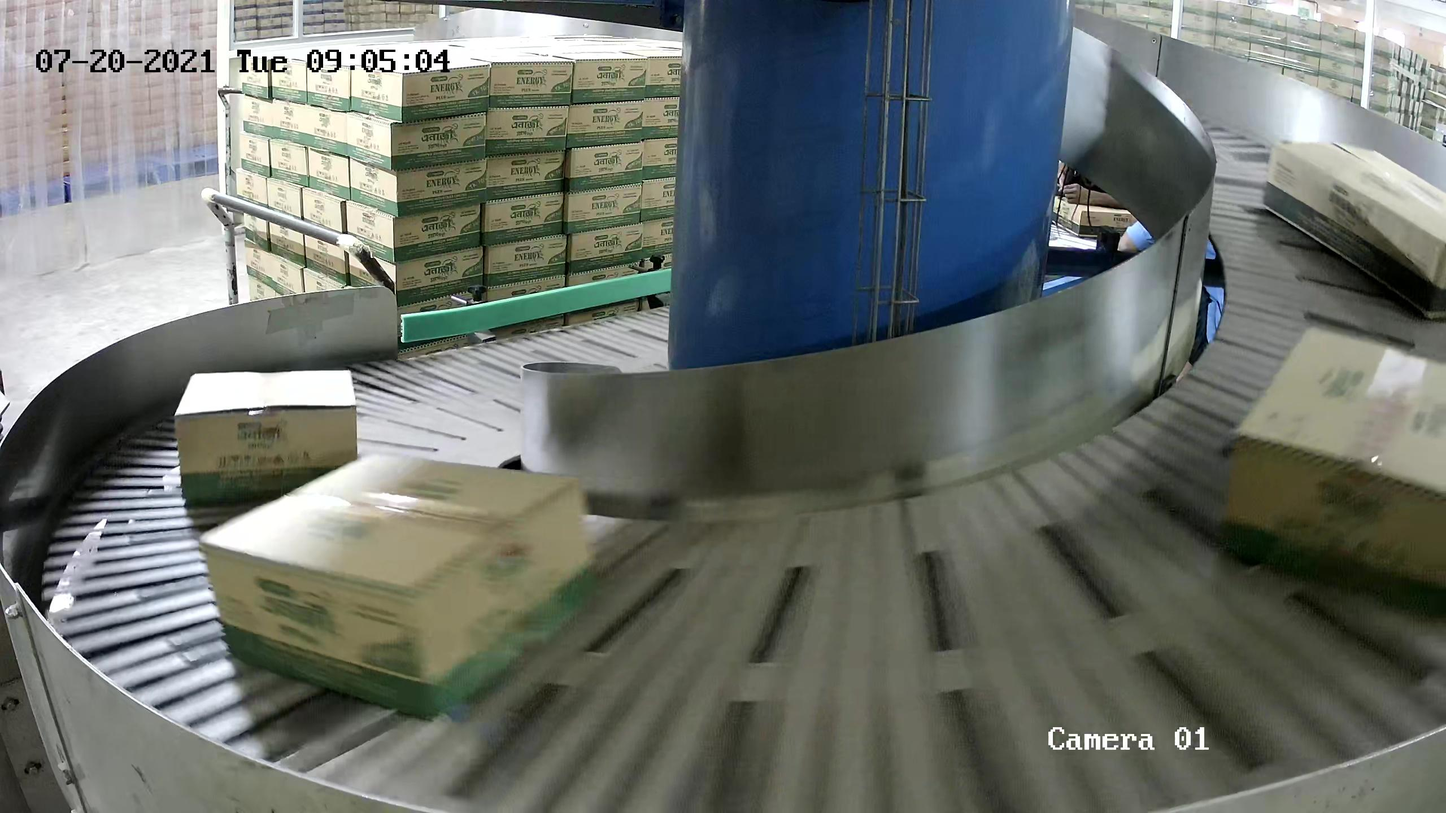Box: (198, 450, 598, 721), (1221, 321, 1446, 618), (1261, 139, 1446, 320), (172, 368, 358, 500)
